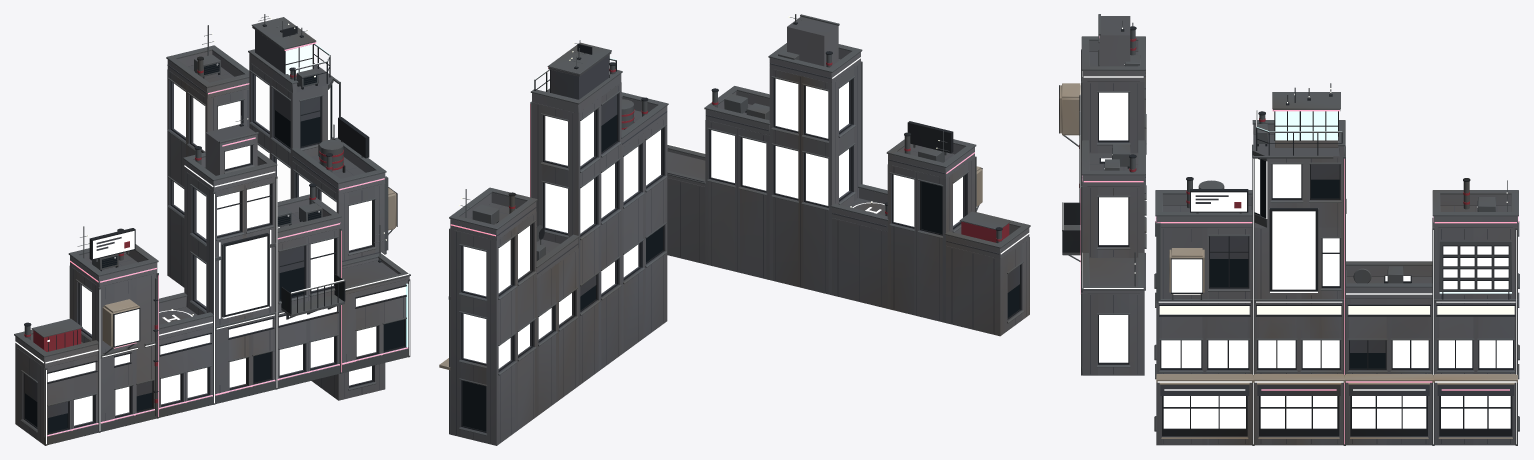
The model's file is frontage284.glb.
The picture shows the model from 3 angles, left to right: view 1: azimuth 30°, elevation 25°; view 2: azimuth 150°, elevation 25°; view 3: azimuth 270°, elevation 25°; orthographic projection. The views are drawn at different scales.
Visible parts, largest first — view 1: fr-wall, fr-steel, fr-wall2, fr-frame, fr-room1, fr-room0, fr-dark, fr-roof, fr-poster, fr-led, fr-lamp, fr-ledr (+4 smaller); view 2: fr-wall, fr-steel, fr-wall2, fr-room1, fr-room0, fr-frame, fr-dark, fr-roof, fr-paint; view 3: fr-wall, fr-steel, fr-frame, fr-room1, fr-shop, fr-wall2, fr-trim, fr-roof, fr-room0, fr-poster, fr-lamp, fr-led (+5 smaller).
Boxes of the visible parts, left/top/right/bottom form: fr-wall: left=15, top=50, right=409, bottom=445; fr-steel: left=14, top=14, right=410, bottom=445; fr-wall2: left=22, top=30, right=406, bottom=441; fr-frame: left=23, top=24, right=406, bottom=434; fr-room1: left=82, top=76, right=376, bottom=415; fr-room0: left=74, top=83, right=336, bottom=425; fr-dark: left=25, top=63, right=404, bottom=432; fr-roof: left=18, top=26, right=401, bottom=366; fr-poster: left=225, top=236, right=267, bottom=314; fr-led: left=15, top=83, right=409, bottom=444; fr-lamp: left=47, top=15, right=406, bottom=381; fr-ledr: left=47, top=42, right=408, bottom=436; fr-wall: left=450, top=26, right=1029, bottom=445; fr-steel: left=448, top=14, right=1030, bottom=435; fr-wall2: left=456, top=55, right=1026, bottom=442; fr-room1: left=463, top=78, right=962, bottom=368; fr-room0: left=498, top=86, right=914, bottom=292; fr-frame: left=461, top=22, right=1020, bottom=432; fr-dark: left=462, top=115, right=1019, bottom=431; fr-roof: left=456, top=17, right=1026, bottom=278; fr-paint: left=509, top=62, right=1009, bottom=242; fr-wall: left=1082, top=35, right=1517, bottom=445; fr-steel: left=1062, top=14, right=1519, bottom=445; fr-frame: left=1059, top=26, right=1515, bottom=436; fr-room1: left=1099, top=92, right=1512, bottom=367; fr-shop: left=1163, top=396, right=1510, bottom=428; fr-wall2: left=1089, top=71, right=1514, bottom=443; fr-trim: left=1059, top=83, right=1517, bottom=438; fr-roof: left=1089, top=16, right=1511, bottom=285; fr-room0: left=1171, top=238, right=1428, bottom=367; fr-poster: left=1272, top=211, right=1315, bottom=289; fr-lamp: left=1101, top=27, right=1514, bottom=314; fr-led: left=1062, top=52, right=1516, bottom=444.
Bounding box in the file's own units: 19.04 × 14.88 × 18.14.
